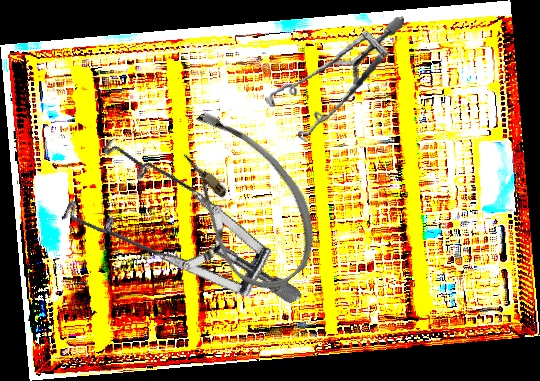Cannula: (143, 95, 341, 305)
Speculum: (40, 94, 303, 379), (256, 16, 419, 147)
